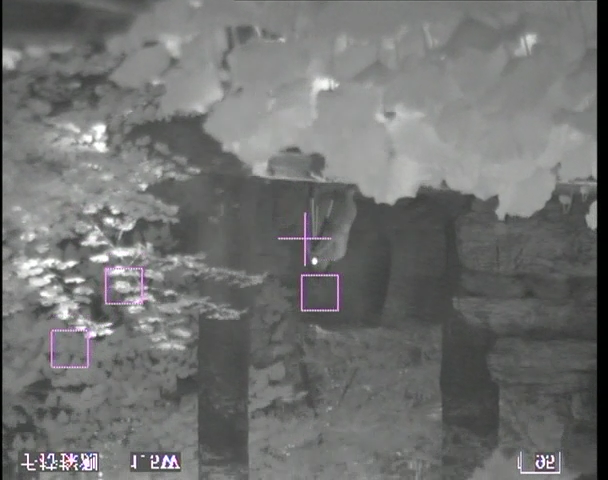my: (310, 257, 319, 266)
